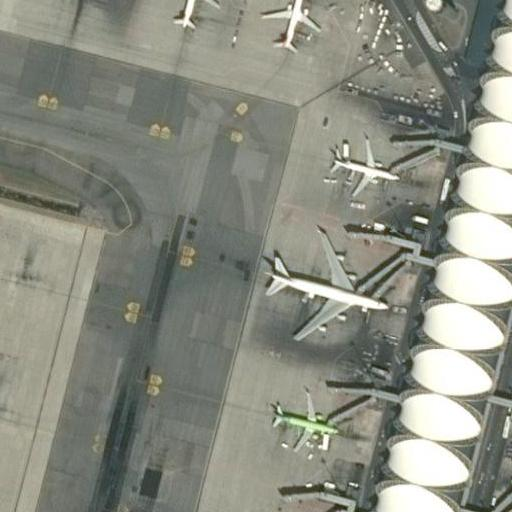Aircraft: (259, 228, 384, 341), (269, 384, 335, 452), (330, 138, 395, 198), (262, 0, 319, 50), (158, 0, 220, 27), (509, 439, 512, 512)
